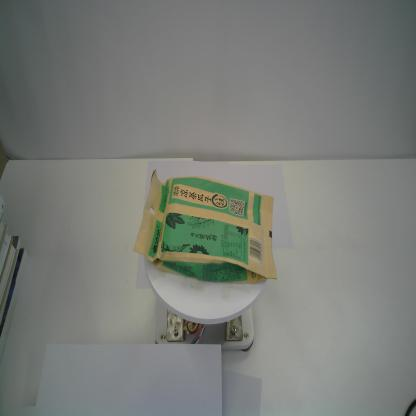Dried Food: (132, 168, 279, 286)
